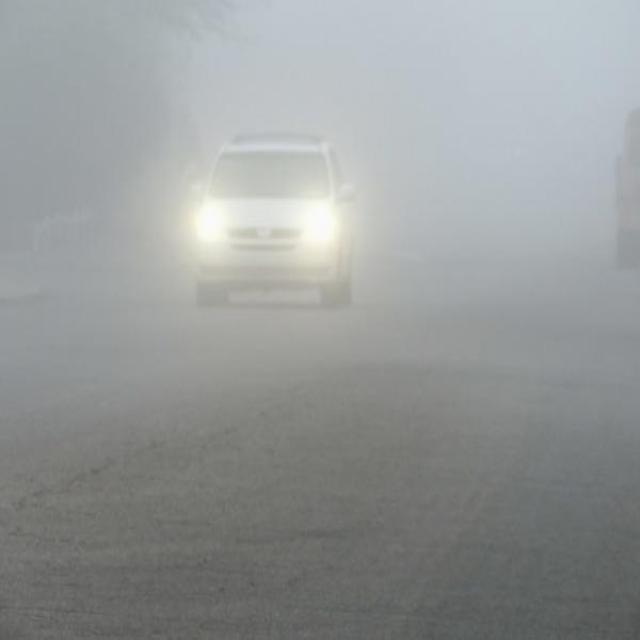Car: (179, 114, 358, 316)
